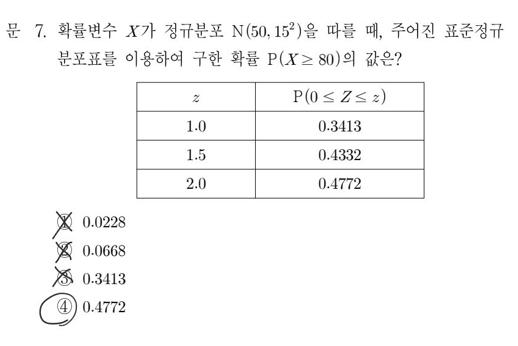1: (36, 291, 79, 328)
paper: (52, 210, 74, 232), (53, 239, 75, 261), (53, 266, 75, 288), (52, 294, 74, 316)
